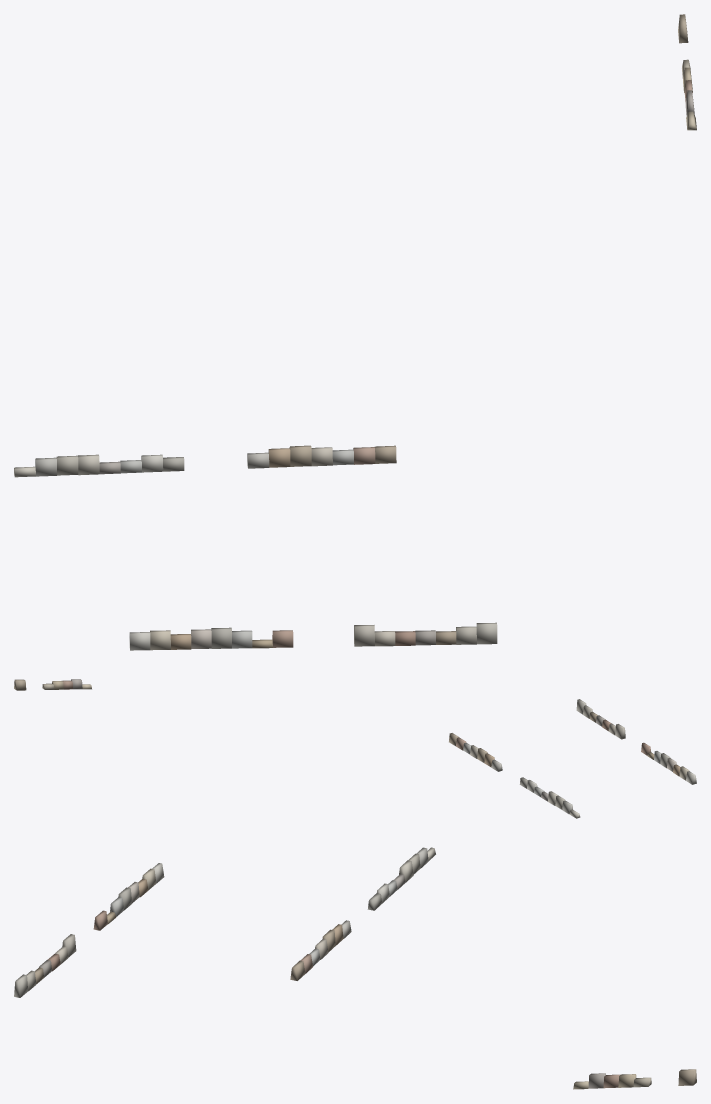
File: farm_2_33_collision.glb
3 renders of one model, top to bottom at view 1: azimuth 30°, elevation 25°; view 2: azimuth 150°, elevation 25°; view 3: azimuth 270°, elevation 25°, orthographic. The views are drawn at different scales.
Parts seen in each view (by area): view 1: geometry_0; view 2: geometry_0; view 3: geometry_0.
Part boxes in pixels (x1,y1,x2,y2): geometry_0: [14, 14, 696, 650]; geometry_0: [14, 679, 696, 818]; geometry_0: [14, 847, 696, 1089].
Bounding box in the file's own units: 74.9 × 16.34 × 59.23.
